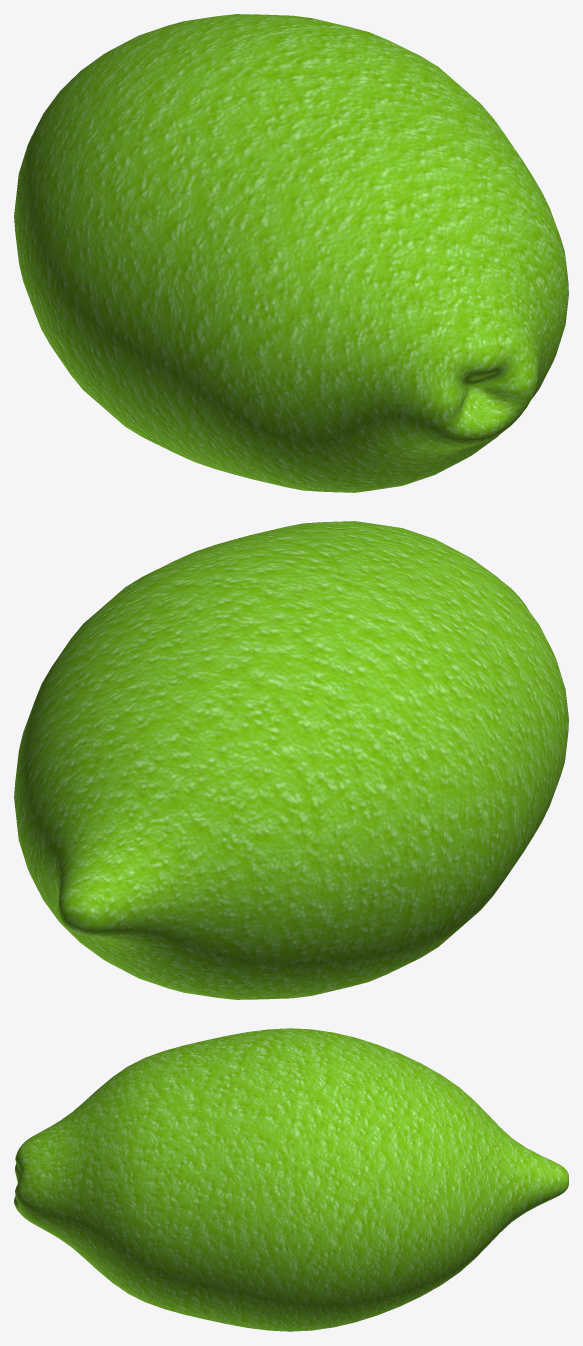
The model's file is Lemon.FBX.
The picture shows the model from 3 angles, top to bottom: view 1: azimuth 30°, elevation 25°; view 2: azimuth 150°, elevation 25°; view 3: azimuth 270°, elevation 25°; orthographic projection. The views are drawn at different scales.
Visible parts, largest first — view 1: Box001; view 2: Box001; view 3: Box001.
Boxes of the visible parts, box(x1,y1,x2,y2) form: Box001: box(14, 14, 568, 492); Box001: box(14, 521, 568, 999); Box001: box(14, 1028, 568, 1331).
Size of the model in its own units: 8.65 by 7.48 by 14.02.
